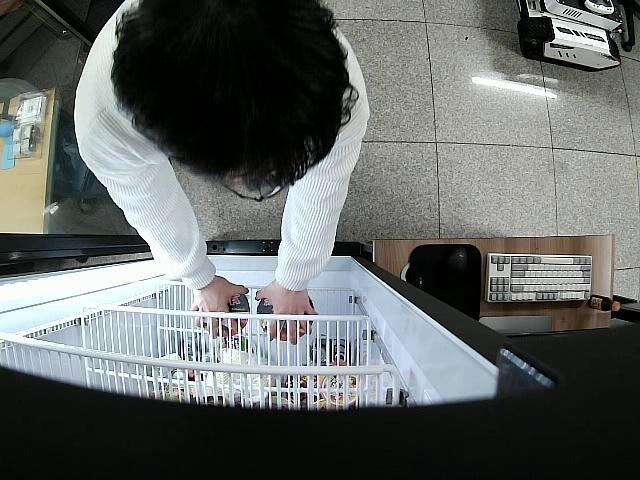07_buldak_L: (256, 297, 313, 340), (200, 290, 248, 337)
